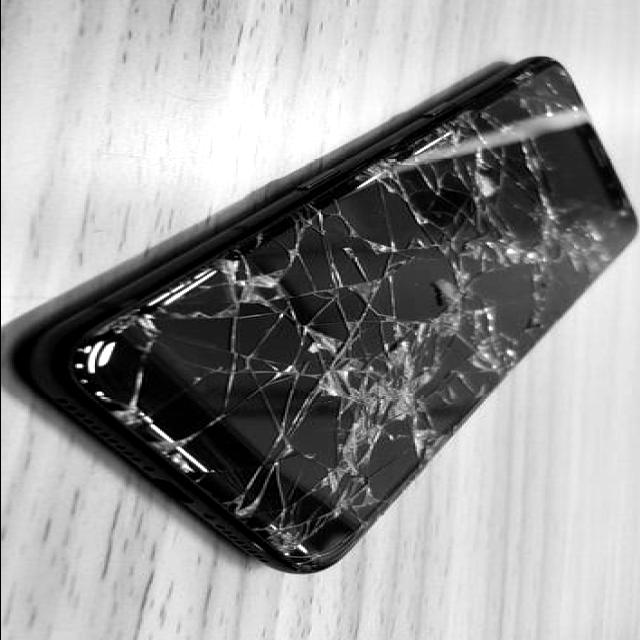Crack: (38, 16, 640, 572)
